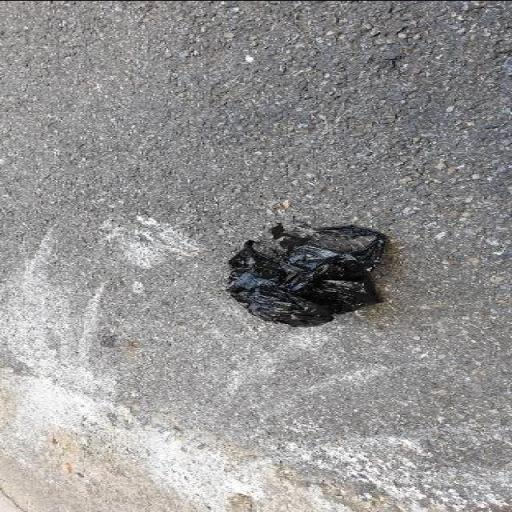plastic-bag: (222, 221, 391, 328)
